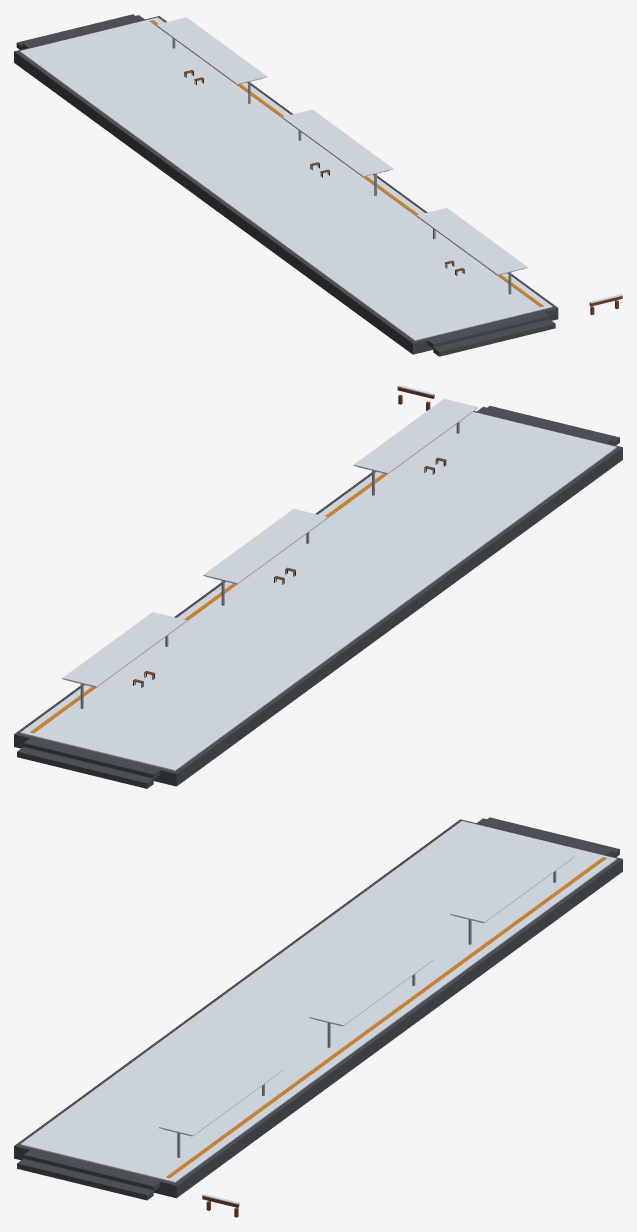
File: Station_Pad_0_0.fbx
3 views of the same model, one above another, from view 1: azimuth 30°, elevation 25°; view 2: azimuth 150°, elevation 25°; view 3: azimuth 330°, elevation 25° (orthographic). The views are drawn at different scales.
Parts seen in each view (by area): view 1: Station_Pad_0_0; view 2: Station_Pad_0_0; view 3: Station_Pad_0_0.
Boxes of the visible parts, x1,y1,x2,y2 form: Station_Pad_0_0: (14, 14, 622, 356); Station_Pad_0_0: (14, 385, 622, 788); Station_Pad_0_0: (14, 817, 622, 1217).
Bounding box in the file's own units: 2820 × 510 × 10060.
